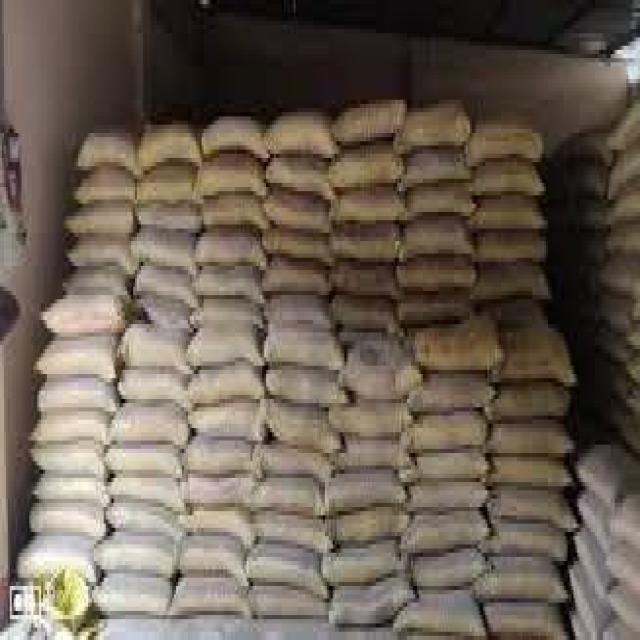gunny_bag: (248, 545, 329, 611), (263, 397, 345, 457), (347, 332, 422, 397), (334, 577, 420, 630), (493, 483, 577, 533), (585, 440, 640, 509), (480, 561, 564, 606), (408, 511, 488, 558), (264, 317, 339, 367), (119, 322, 191, 374), (134, 260, 202, 315), (417, 327, 501, 371), (191, 317, 262, 369), (108, 497, 183, 544), (95, 582, 168, 630), (47, 287, 124, 332), (327, 476, 407, 519), (325, 542, 405, 585), (272, 365, 349, 409), (42, 336, 116, 381), (403, 450, 486, 490), (406, 414, 484, 455), (117, 365, 189, 409), (113, 405, 188, 447), (193, 362, 266, 405), (100, 532, 180, 571), (188, 438, 260, 480), (401, 223, 476, 263), (413, 547, 484, 589), (411, 377, 490, 414), (188, 507, 254, 551), (192, 400, 263, 440), (258, 476, 324, 519), (403, 109, 466, 154), (338, 100, 402, 144), (337, 403, 412, 440), (495, 388, 568, 426), (404, 154, 473, 194), (38, 440, 105, 481), (268, 185, 329, 229), (141, 128, 203, 171), (335, 151, 405, 189), (487, 431, 572, 462), (329, 223, 398, 261), (473, 126, 539, 165), (338, 440, 416, 473), (207, 189, 271, 229), (572, 533, 608, 604), (400, 260, 477, 293), (198, 232, 268, 268), (138, 190, 201, 230), (41, 383, 116, 416), (77, 137, 142, 175), (36, 474, 109, 507), (199, 268, 267, 303), (204, 123, 270, 159), (475, 163, 541, 199), (271, 121, 337, 156), (110, 445, 179, 478), (481, 232, 546, 267), (263, 223, 327, 258), (334, 261, 396, 296), (476, 201, 541, 234), (578, 497, 612, 559), (262, 265, 328, 296), (73, 204, 133, 237), (82, 170, 135, 203), (335, 194, 402, 220)
